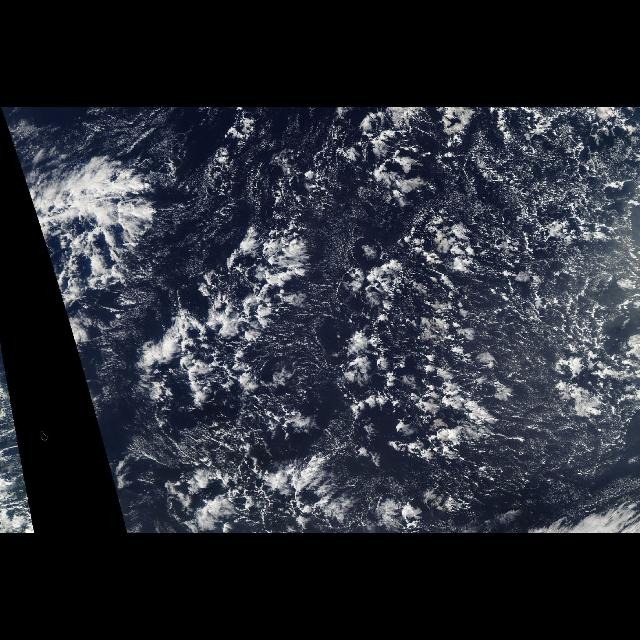Fish: (18, 132, 312, 396)
Gravel: (177, 110, 639, 528)
